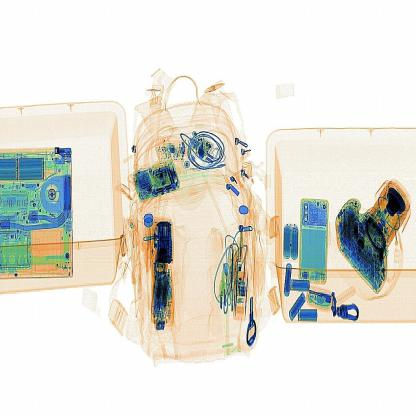scissors: (146, 220, 183, 271)
